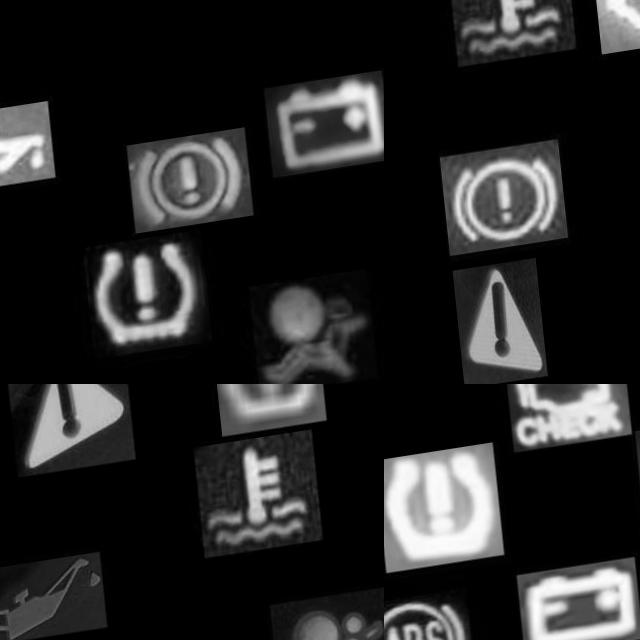Central Warning lamp: (4, 384, 131, 481), (442, 261, 535, 384)
Engine cooling system: (190, 442, 317, 568), (444, 0, 571, 69)
